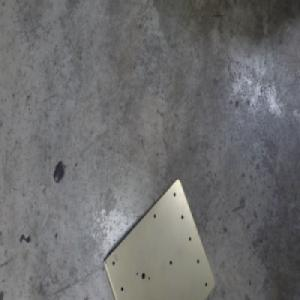MetalSheet: (101, 176, 216, 300)
